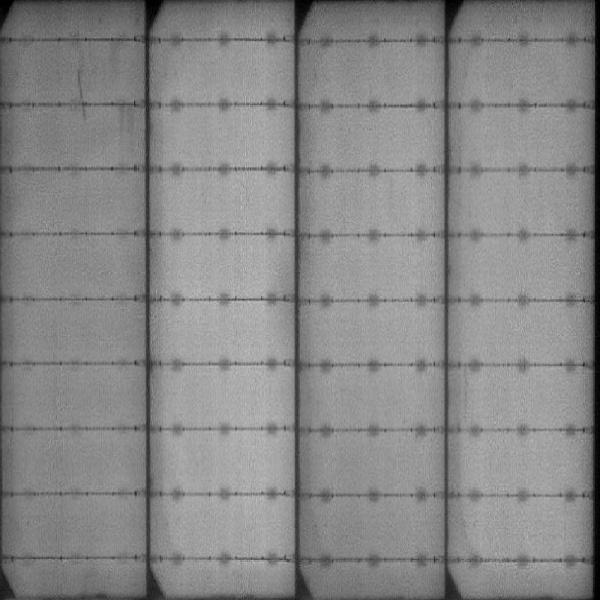scratch: (79, 71, 90, 121)
